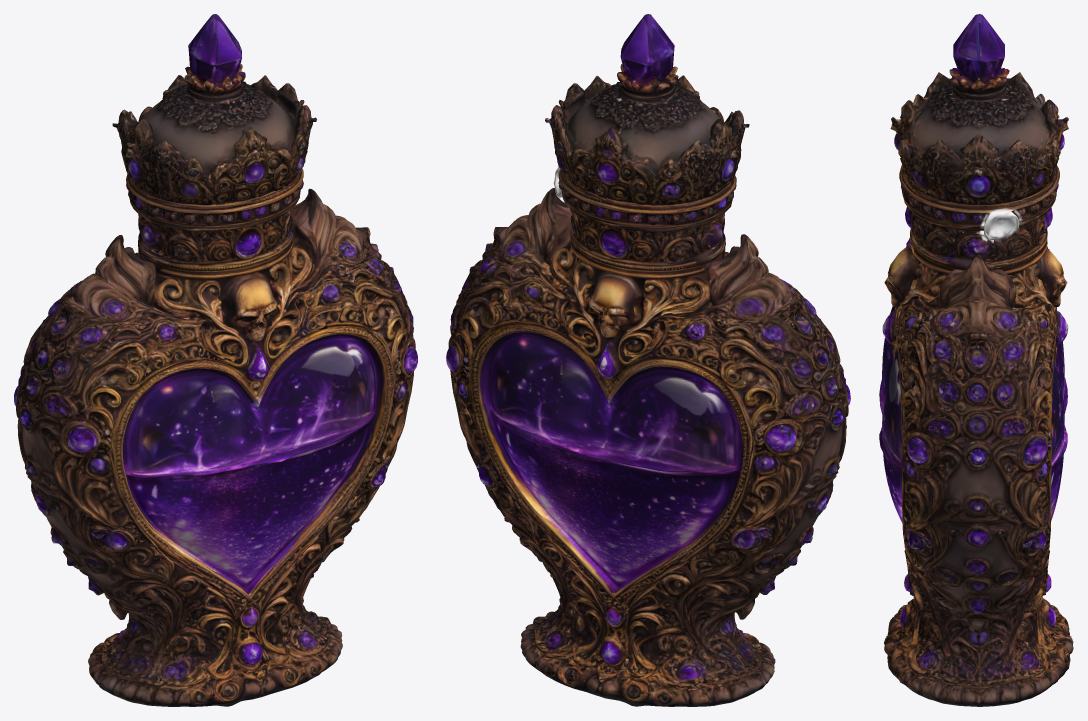
The model's file is pixellabs-potion-3620.glb.
3 renders of one model, left to right at view 1: azimuth 30°, elevation 25°; view 2: azimuth 150°, elevation 25°; view 3: azimuth 270°, elevation 25°, orthographic.
Parts seen in each view (by area): view 1: material; view 2: material; view 3: material.
Part boxes in pixels (box(x1,y1,x2,y2)): material: box(14, 14, 417, 706); material: box(446, 14, 850, 706); material: box(879, 14, 1073, 706).
Bounding box in the file's own units: 0.7091 × 1.13 × 0.3099.
Materials: 1 (1 with a texture image).
